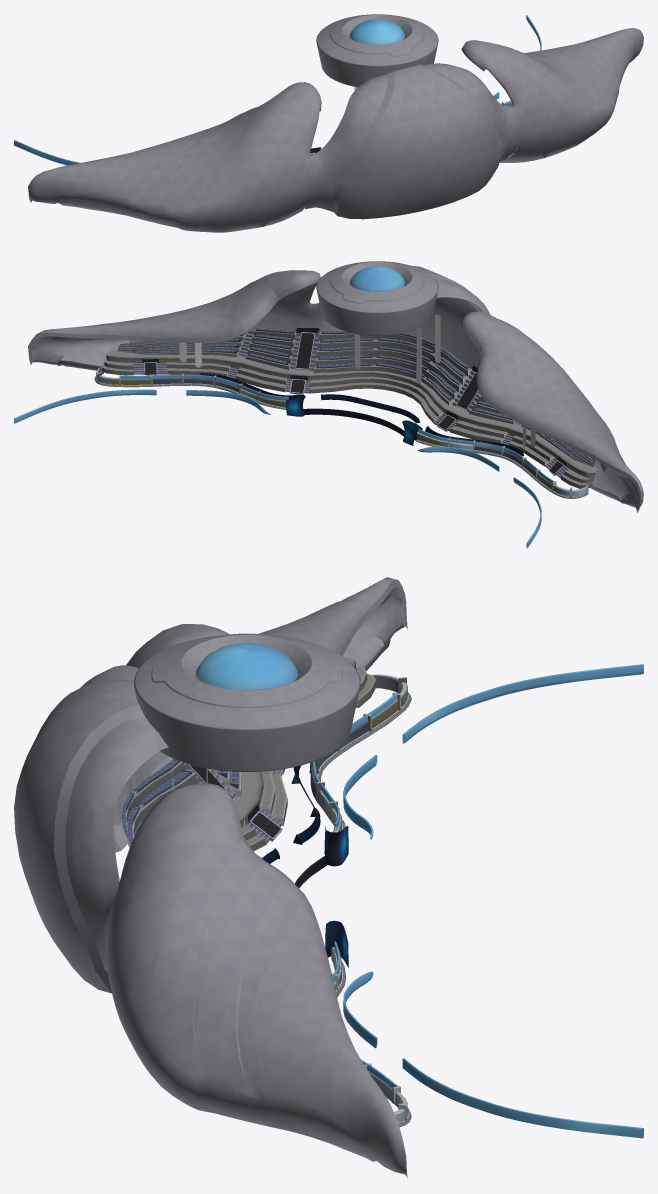
The model's file is pref_sm_4v4pointbake_WSJ_CSD_S_lv0.fbx.
3 renders of one model, top to bottom at view 1: azimuth 30°, elevation 25°; view 2: azimuth 150°, elevation 25°; view 3: azimuth 270°, elevation 25°, orthographic. The views are drawn at different scales.
Visible parts, largest first — view 1: sm_4v4pointbake_WSJ_CSD_S_f_lv0, sm_4v4pointbake_WSJ_CSD_S_e_lv0, sm_4v4pointbake_WSJ_CSD_S_i_lv0; view 2: sm_4v4pointbake_WSJ_CSD_S_f_lv0, sm_4v4pointbake_WSJ_CSD_S_h_lv0, sm_4v4pointbake_WSJ_CSD_S_e_lv0, sm_4v4pointbake_WSJ_CSD_S_i_lv0, sm_4v4pointbake_WSJ_CSD_S_c_lv0, sm_4v4pointbake_WSJ_CSD_S_d_lv0, sm_4v4pointbake_WSJ_CSD_S_g_lv0, sm_4v4pointbake_WSJ_CSD_S_a_lv0; view 3: sm_4v4pointbake_WSJ_CSD_S_f_lv0, sm_4v4pointbake_WSJ_CSD_S_e_lv0, sm_4v4pointbake_WSJ_CSD_S_i_lv0, sm_4v4pointbake_WSJ_CSD_S_h_lv0, sm_4v4pointbake_WSJ_CSD_S_c_lv0, sm_4v4pointbake_WSJ_CSD_S_d_lv0.
Part boxes in pixels (<box>): sm_4v4pointbake_WSJ_CSD_S_f_lv0: <box>28,28,643,232</box>; sm_4v4pointbake_WSJ_CSD_S_e_lv0: <box>316,14,438,87</box>; sm_4v4pointbake_WSJ_CSD_S_i_lv0: <box>14,15,541,165</box>; sm_4v4pointbake_WSJ_CSD_S_f_lv0: <box>28,266,643,512</box>; sm_4v4pointbake_WSJ_CSD_S_h_lv0: <box>102,328,597,488</box>; sm_4v4pointbake_WSJ_CSD_S_e_lv0: <box>316,261,438,335</box>; sm_4v4pointbake_WSJ_CSD_S_i_lv0: <box>14,374,553,548</box>; sm_4v4pointbake_WSJ_CSD_S_c_lv0: <box>94,367,588,498</box>; sm_4v4pointbake_WSJ_CSD_S_d_lv0: <box>286,394,422,445</box>; sm_4v4pointbake_WSJ_CSD_S_g_lv0: <box>179,314,535,447</box>; sm_4v4pointbake_WSJ_CSD_S_a_lv0: <box>200,373,524,456</box>; sm_4v4pointbake_WSJ_CSD_S_f_lv0: <box>14,577,407,1177</box>; sm_4v4pointbake_WSJ_CSD_S_e_lv0: <box>133,633,360,771</box>; sm_4v4pointbake_WSJ_CSD_S_i_lv0: <box>313,664,643,1138</box>; sm_4v4pointbake_WSJ_CSD_S_h_lv0: <box>121,657,376,851</box>; sm_4v4pointbake_WSJ_CSD_S_c_lv0: <box>309,674,411,1127</box>; sm_4v4pointbake_WSJ_CSD_S_d_lv0: <box>295,826,348,967</box>.
Size of the model in its own units: 126 by 29.79 by 60.12.
